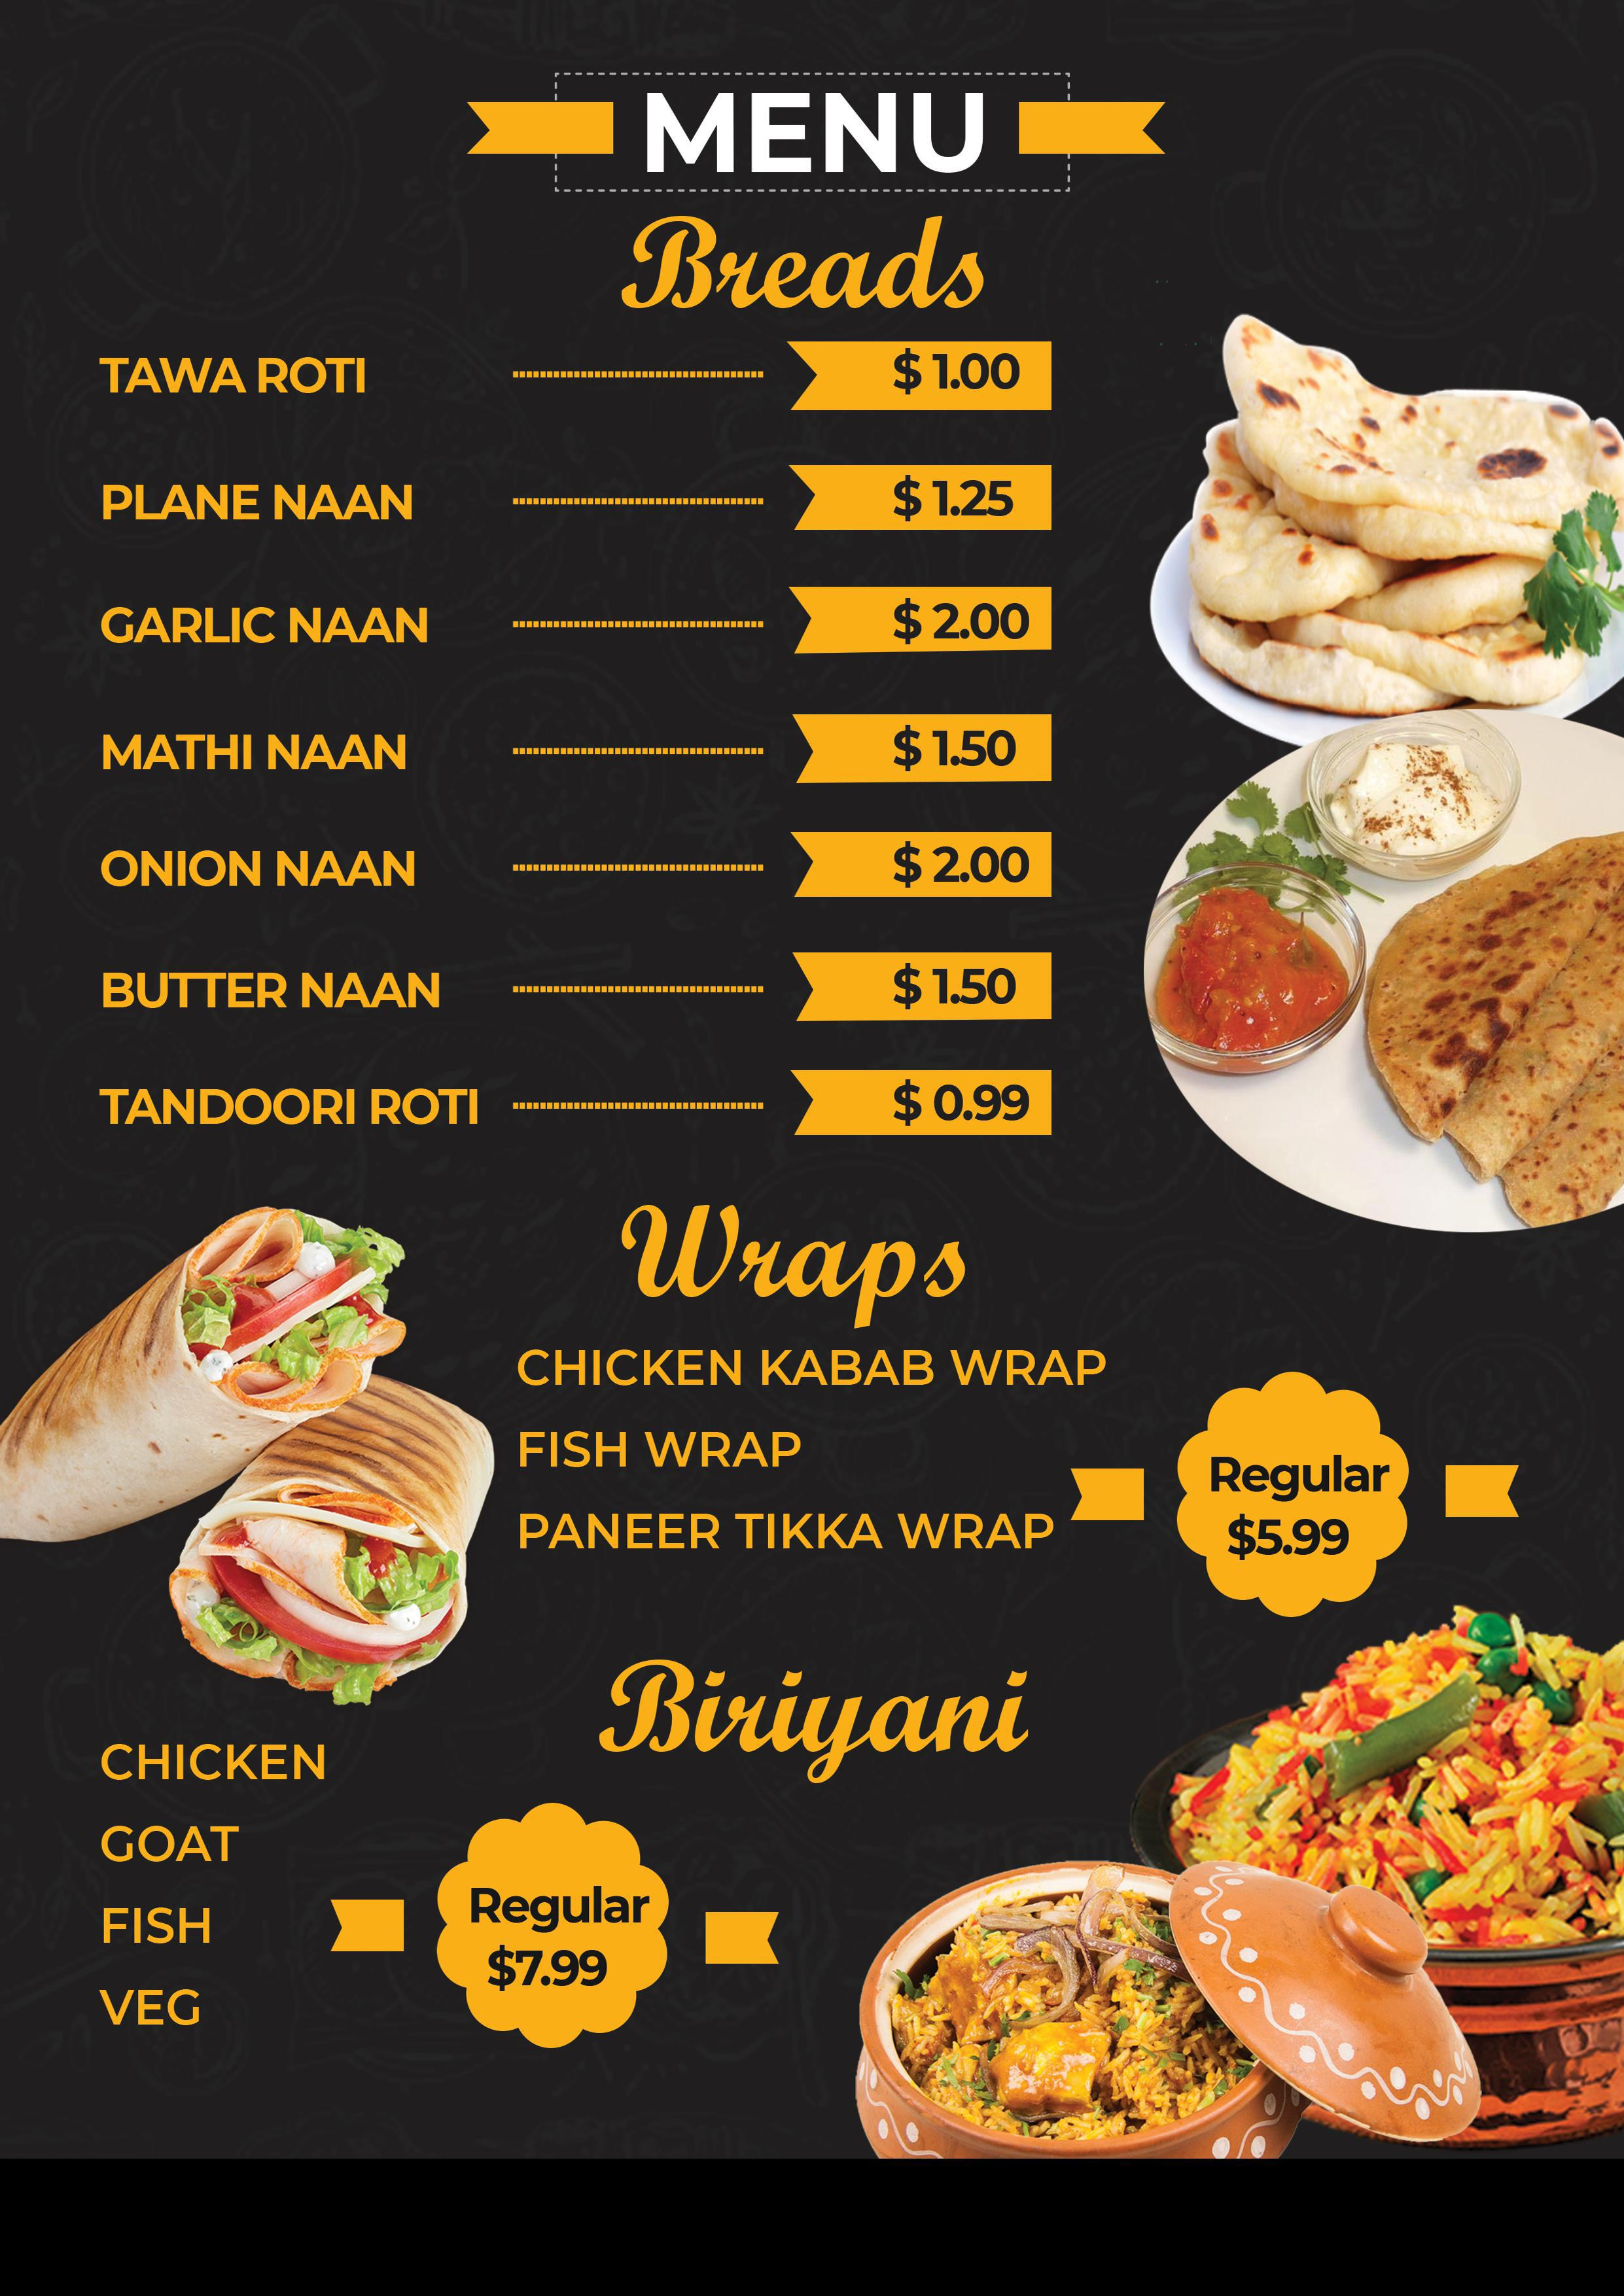item: (88, 574, 1065, 685), (88, 717, 1067, 817), (90, 336, 1067, 436), (91, 455, 1062, 552), (95, 833, 1069, 924), (91, 1075, 1063, 1163), (91, 952, 1065, 1038), (494, 1340, 1137, 1407), (511, 1502, 1063, 1558), (506, 1418, 905, 1484), (464, 1885, 654, 2004), (1207, 1446, 1390, 1562), (88, 1727, 346, 1787), (84, 1894, 234, 1952), (81, 1980, 218, 2041), (88, 1815, 265, 1862)
price: (891, 1075, 1030, 1126), (891, 471, 1019, 525), (893, 838, 1033, 887), (891, 594, 1030, 643), (483, 1943, 610, 1994), (889, 346, 1025, 393), (1227, 1507, 1352, 1558), (889, 722, 1023, 769), (891, 957, 1019, 1007)
tittle: (510, 1347, 1111, 1391), (518, 1511, 1056, 1551), (98, 1084, 485, 1133), (95, 599, 432, 650), (100, 848, 418, 896), (97, 483, 422, 527), (100, 971, 446, 1012), (97, 353, 376, 402), (515, 1428, 807, 1474), (97, 734, 417, 775), (97, 1743, 330, 1781), (1209, 1453, 1392, 1498), (98, 1825, 243, 1860), (95, 1906, 220, 1946), (93, 1987, 211, 2027)
